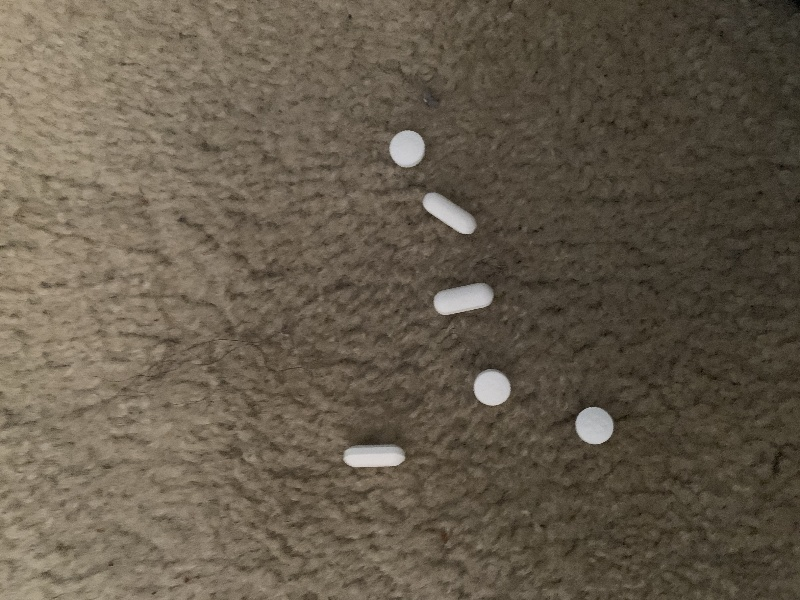Aspirin: (383, 121, 433, 173), (570, 401, 617, 449), (471, 364, 514, 412)
Tylenol: (418, 188, 484, 245), (427, 278, 502, 319), (340, 438, 410, 475)
